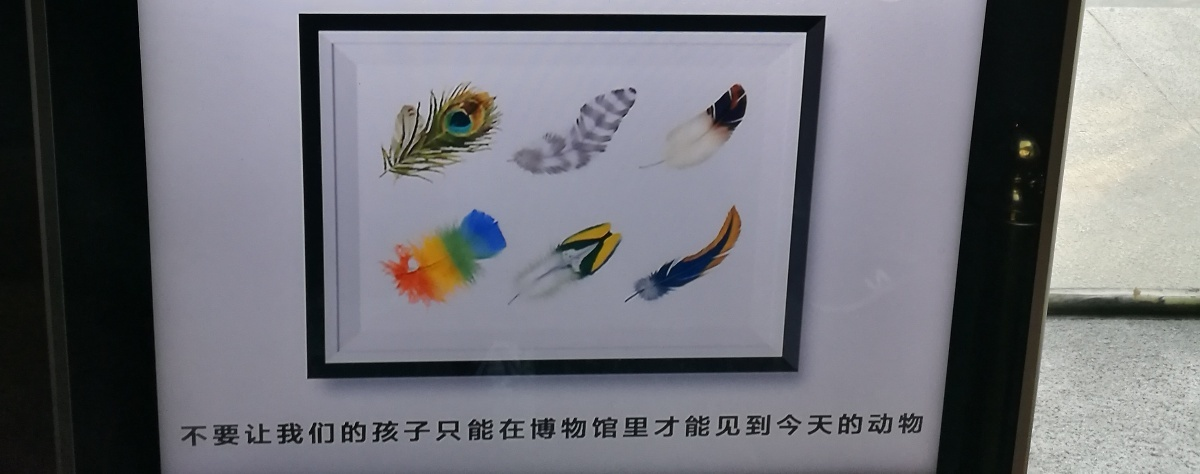text: (193, 412, 208, 445), (209, 412, 224, 445), (225, 412, 240, 445), (241, 412, 256, 445), (257, 412, 272, 445), (273, 412, 288, 445), (289, 412, 304, 445), (305, 412, 320, 445), (321, 412, 336, 445), (337, 412, 352, 445), (353, 412, 368, 445), (369, 412, 384, 445), (385, 412, 400, 445), (401, 412, 416, 445), (417, 412, 432, 445), (433, 412, 448, 445), (449, 412, 464, 445), (465, 412, 480, 445), (481, 412, 496, 445), (497, 412, 512, 445), (513, 412, 528, 445), (529, 412, 544, 445), (545, 412, 560, 445), (561, 412, 576, 445), (577, 412, 592, 445), (593, 412, 608, 445), (609, 412, 624, 445), (625, 412, 640, 445), (641, 412, 656, 445), (657, 412, 672, 445), (673, 412, 688, 445), (689, 412, 704, 445), (705, 412, 720, 445), (721, 412, 736, 445), (737, 412, 752, 445), (753, 412, 768, 445), (769, 412, 784, 445), (785, 412, 800, 445), (801, 412, 816, 445), (817, 412, 832, 445), (833, 412, 848, 445), (849, 412, 864, 445), (865, 412, 880, 445), (881, 412, 896, 445), (897, 412, 912, 445), (913, 412, 926, 445), (180, 412, 192, 445)
